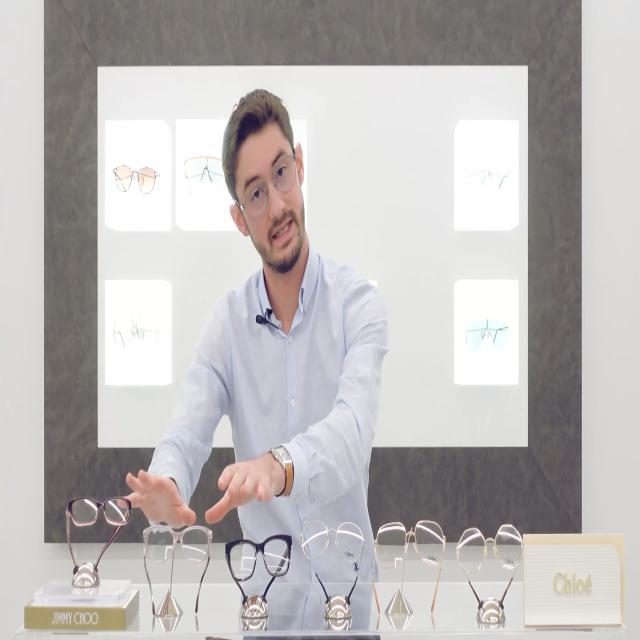dress: (150, 242, 389, 585)
glasses: (240, 151, 302, 216)
